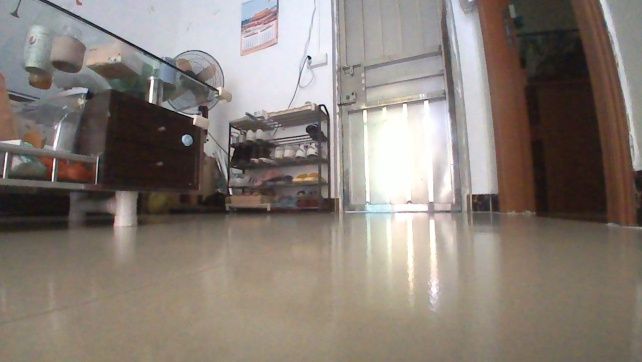door_anno: (329, 0, 470, 226)
tea_table1: (0, 0, 234, 226)
wire: (293, 0, 320, 88), (285, 53, 313, 108), (206, 130, 233, 158), (269, 121, 283, 138)
